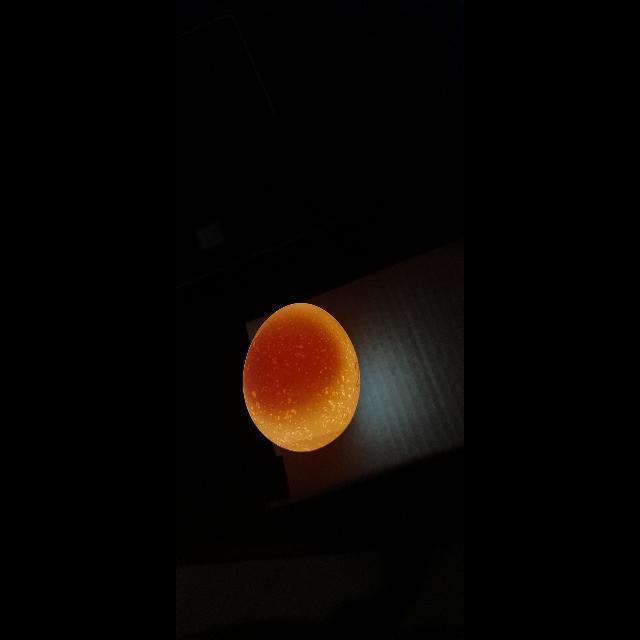Inedible: (241, 301, 364, 457)
